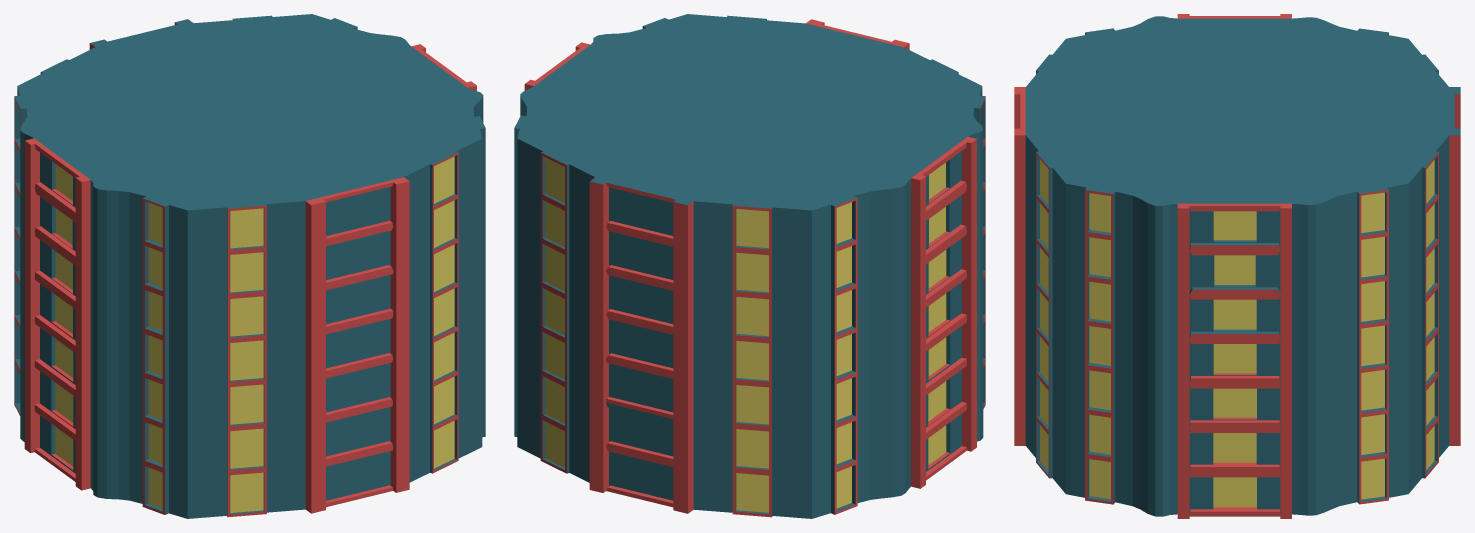
Rendered from predio2megamanx pintado(1).fbx.
3 renders of one model, left to right at view 1: azimuth 30°, elevation 25°; view 2: azimuth 150°, elevation 25°; view 3: azimuth 270°, elevation 25°, orthographic.
Parts seen in each view (by area): view 1: Cube; view 2: Cube; view 3: Cube.
Part boxes in pixels (<box>): Cube: <box>14,14,485,518</box>; Cube: <box>514,14,985,518</box>; Cube: <box>1014,14,1460,518</box>.
Size of the model in its own units: 268 by 200 by 260.
